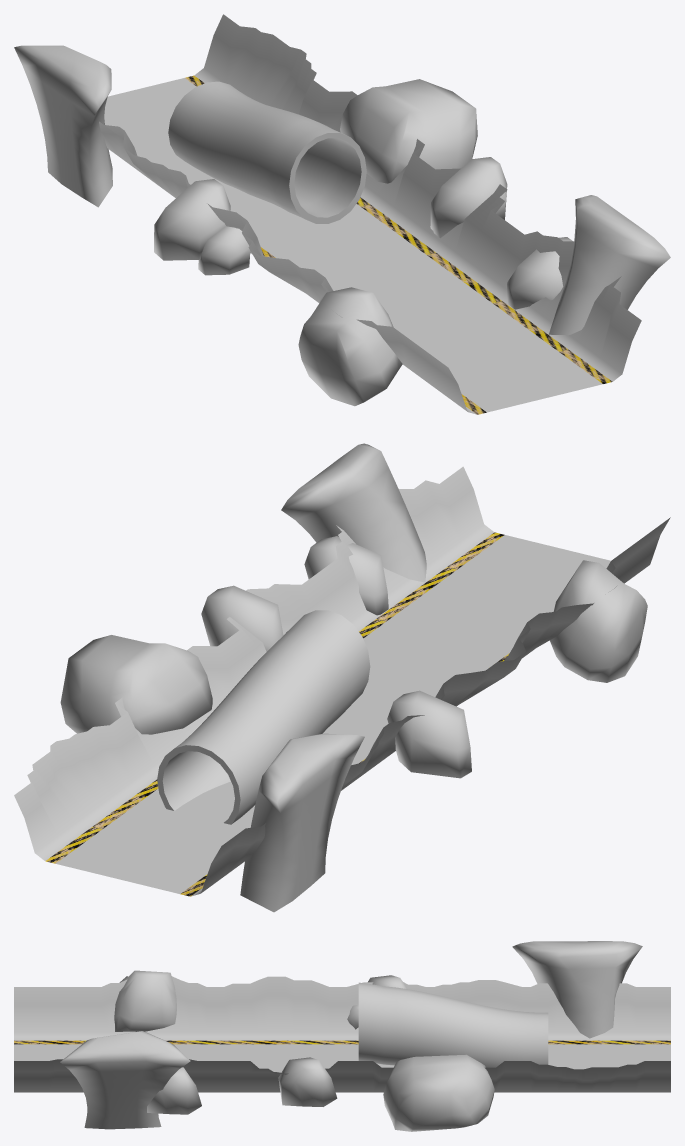
File: pipe_Chunk_old.fbx
3 renders of one model, top to bottom at view 1: azimuth 30°, elevation 25°; view 2: azimuth 150°, elevation 25°; view 3: azimuth 270°, elevation 25°, orthographic. The views are drawn at different scales.
Visible parts, largest first — view 1: pipe_Chunk; view 2: pipe_Chunk; view 3: pipe_Chunk.
Part boxes in pixels (left/top/right/bottom): pipe_Chunk: left=14, top=14, right=670, bottom=414; pipe_Chunk: left=14, top=443, right=670, bottom=912; pipe_Chunk: left=14, top=941, right=670, bottom=1131.
Size of the model in its own units: 69.64 by 26.46 by 150.
